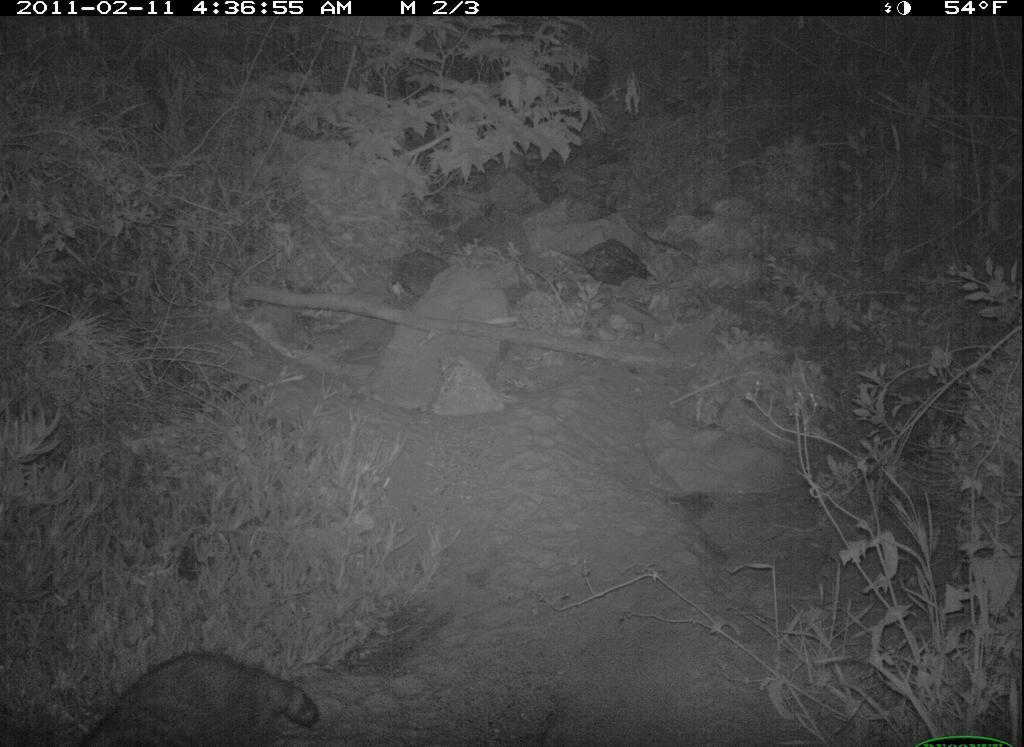raccoon: (66, 643, 347, 747)
